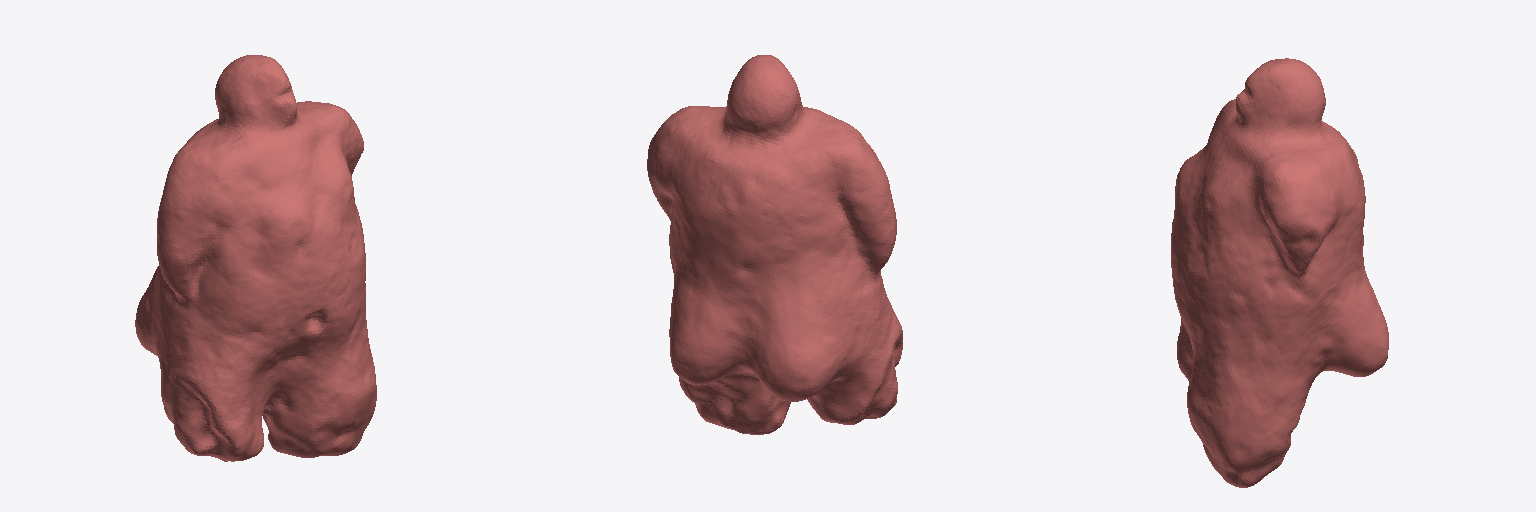
The model's file is human_mesh_w_l.obj.
The picture shows the model from 3 angles: view 1: azimuth 30°, elevation 25°; view 2: azimuth 150°, elevation 25°; view 3: azimuth 270°, elevation 25°; orthographic projection.
Parts seen in each view (by area): view 1: Human_Mesh_W; view 2: Human_Mesh_W; view 3: Human_Mesh_W.
Boxes of the visible parts, x1,y1,x2,y2 form: Human_Mesh_W: [135, 55, 376, 461]; Human_Mesh_W: [647, 55, 902, 434]; Human_Mesh_W: [1171, 58, 1388, 487].
Bounding box in the file's own units: 23.26 × 39.37 × 19.88.